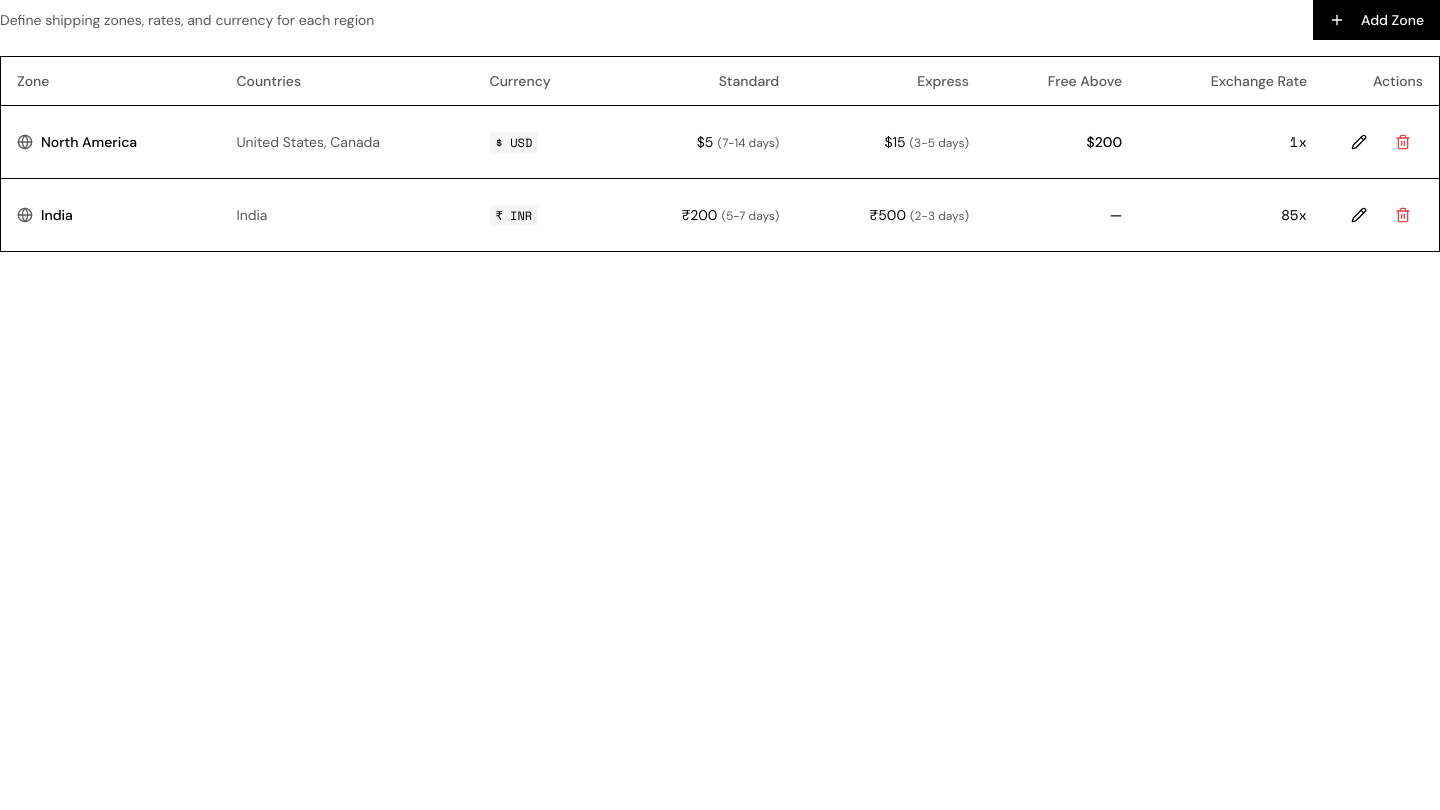
Test: AdminShippingZones › opens add zone dialog
The image size is (1440, 810).
Click the button "Add Zone" at (1376, 20), box left=1313, top=0, right=1439, bottom=40
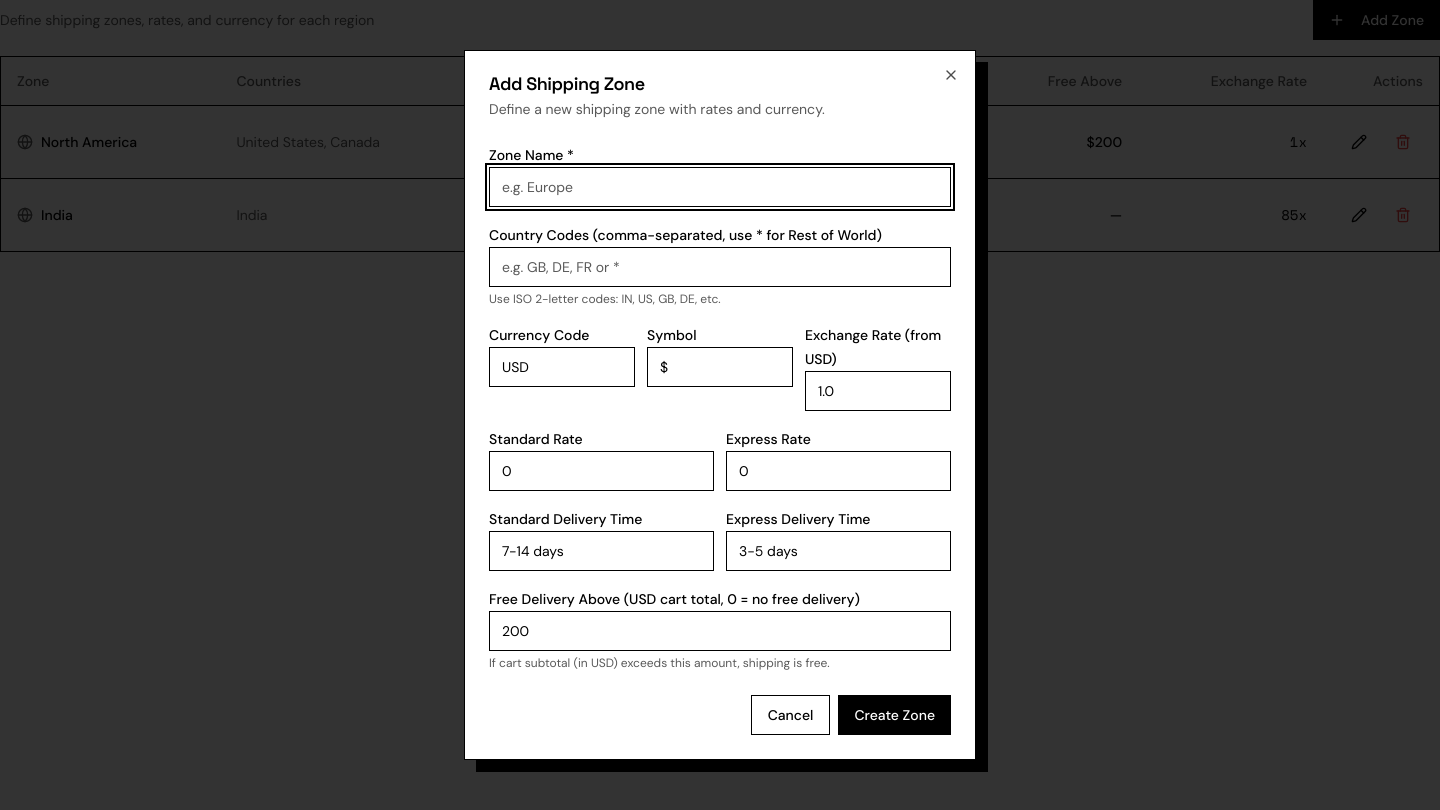
Expected: the heading "Add Shipping Zone" is shown, left=489, top=72, right=645, bottom=95
Expected: the text "Zone Name *" is shown, left=489, top=146, right=574, bottom=164
Expected: the text "Free Delivery Above (USD cart total, 0 = no free delivery)" is shown, left=489, top=590, right=860, bottom=608
